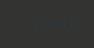eight: (52, 20, 58, 28), (59, 20, 65, 28)
nine: (66, 20, 72, 28)
seven: (17, 20, 23, 28), (24, 20, 30, 28)
two: (31, 20, 37, 28), (38, 20, 44, 28)
zero: (45, 20, 51, 28)
